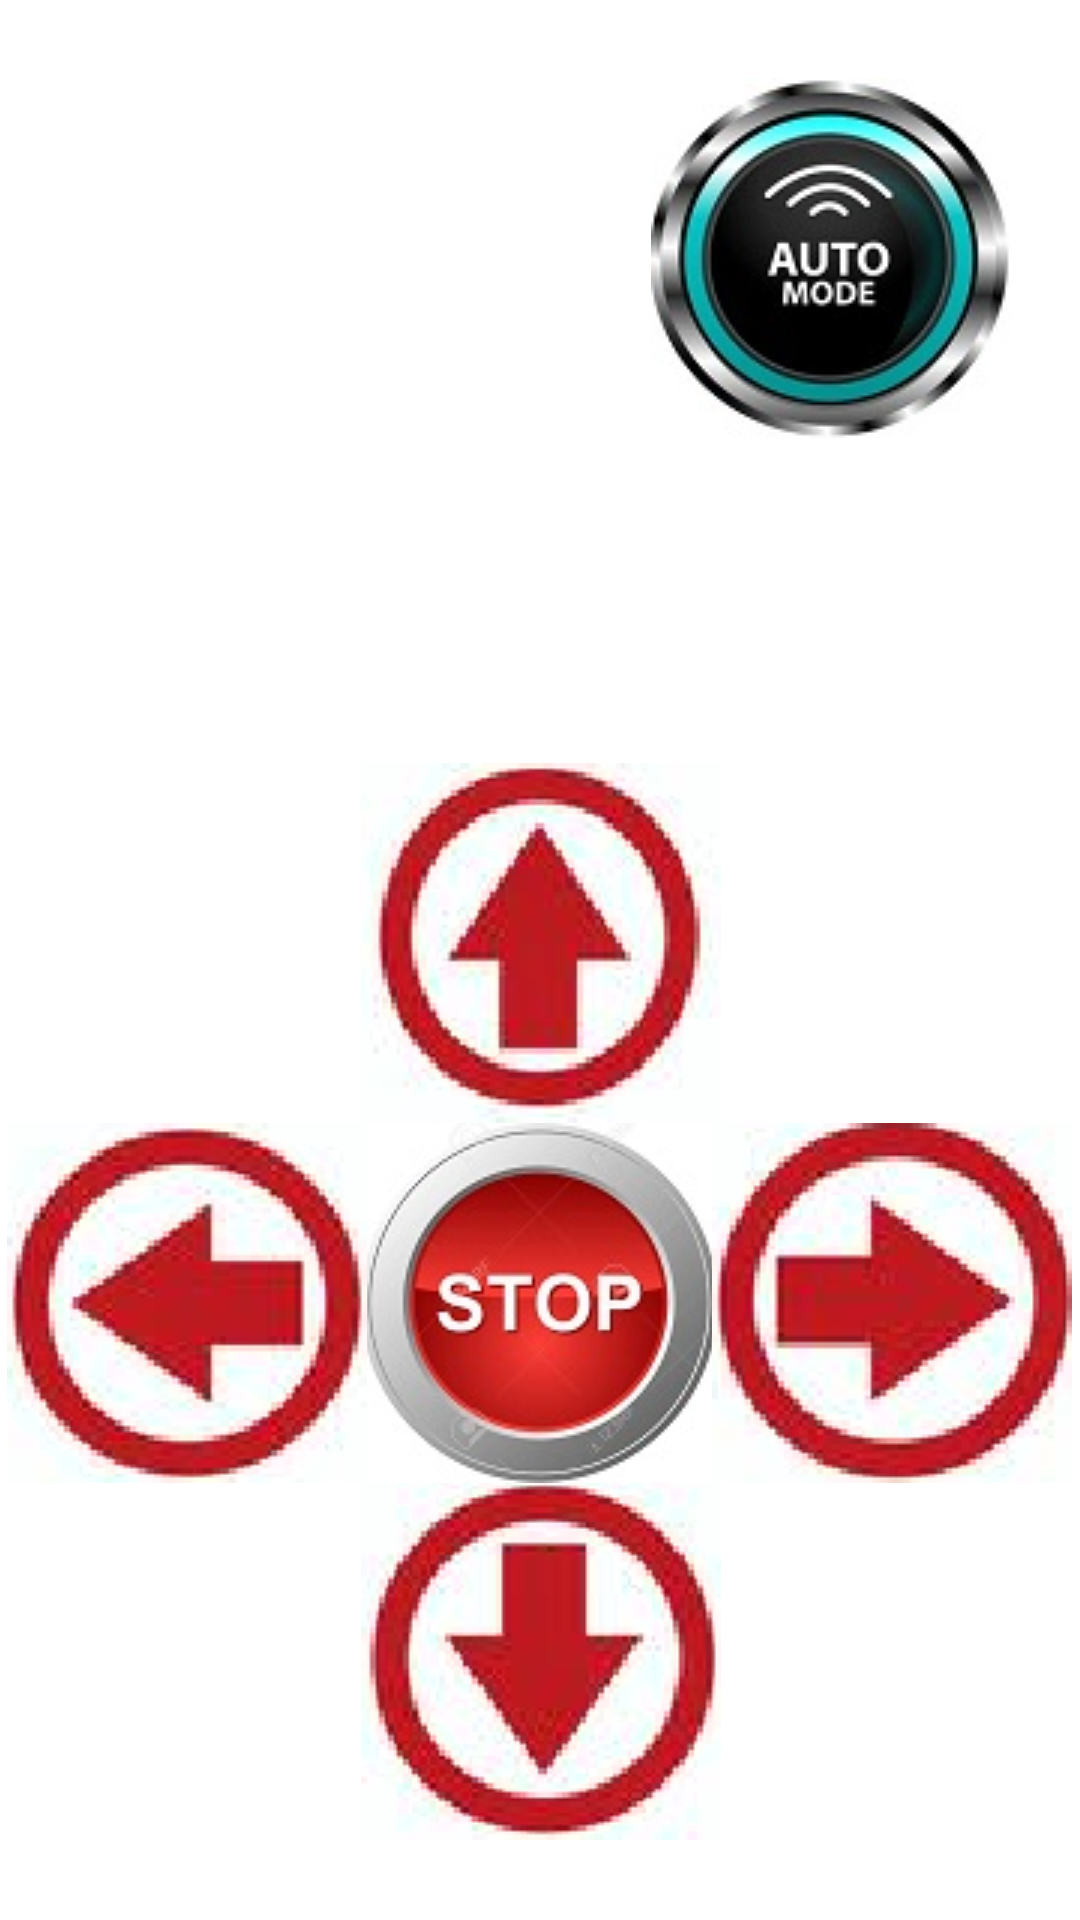

Point at icon controls on the screen. Image size 1080px×1920px, points as (x,y).
down: (542,1660)
left: (187,1303)
right: (894,1303)
